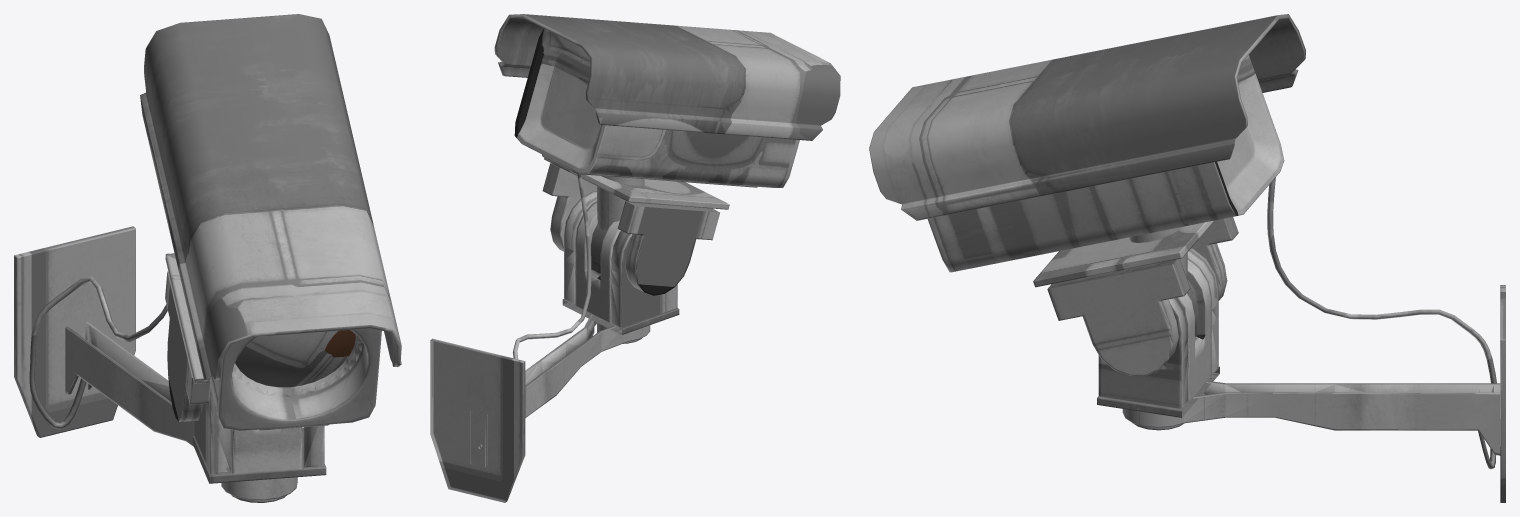
The model's file is cctv.obj.
3 renders of one model, left to right at view 1: azimuth 30°, elevation 25°; view 2: azimuth 150°, elevation 25°; view 3: azimuth 270°, elevation 25°, orthographic. The views are drawn at different scales.
Parts seen in each view (by area): view 1: cctv_lowpoly; view 2: cctv_lowpoly; view 3: cctv_lowpoly.
Boxes of the visible parts, x1,y1,x2,y2 form: cctv_lowpoly: [14, 14, 401, 502]; cctv_lowpoly: [430, 14, 840, 502]; cctv_lowpoly: [869, 14, 1505, 502].
Size of the model in its own units: 1.02 by 1.74 by 2.16.
